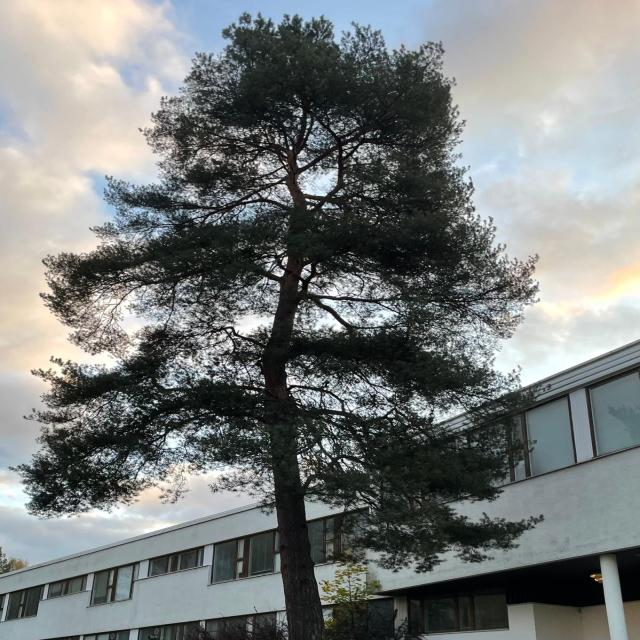pine: (25, 0, 562, 631)
